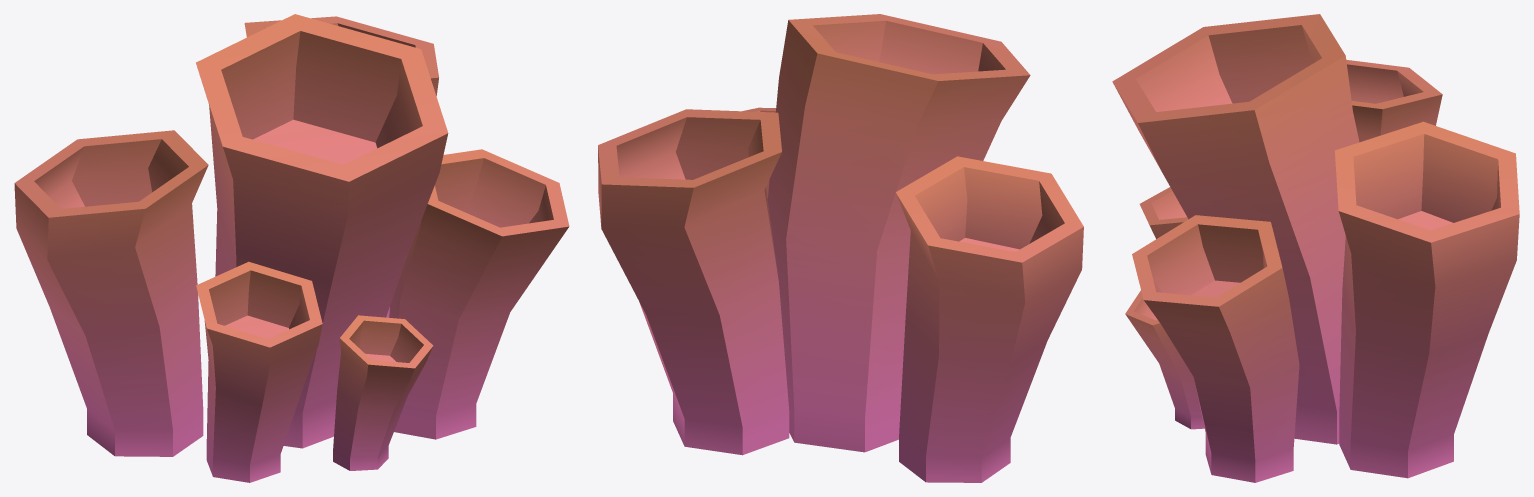
The model's file is CoralReef_02.fbx.
3 renders of one model, left to right at view 1: azimuth 30°, elevation 25°; view 2: azimuth 150°, elevation 25°; view 3: azimuth 270°, elevation 25°, orthographic. The views are drawn at different scales.
Parts seen in each view (by area): view 1: pPrism75; view 2: pPrism75; view 3: pPrism75.
Boxes of the visible parts, x1=… form: pPrism75: x1=14, y1=14, x2=569, y2=482; pPrism75: x1=598, y1=14, x2=1083, y2=482; pPrism75: x1=1112, y1=14, x2=1519, y2=482.
Bounding box in the file's own units: 58.32 × 47.04 × 47.16.
Materials: 1 (1 with a texture image).
